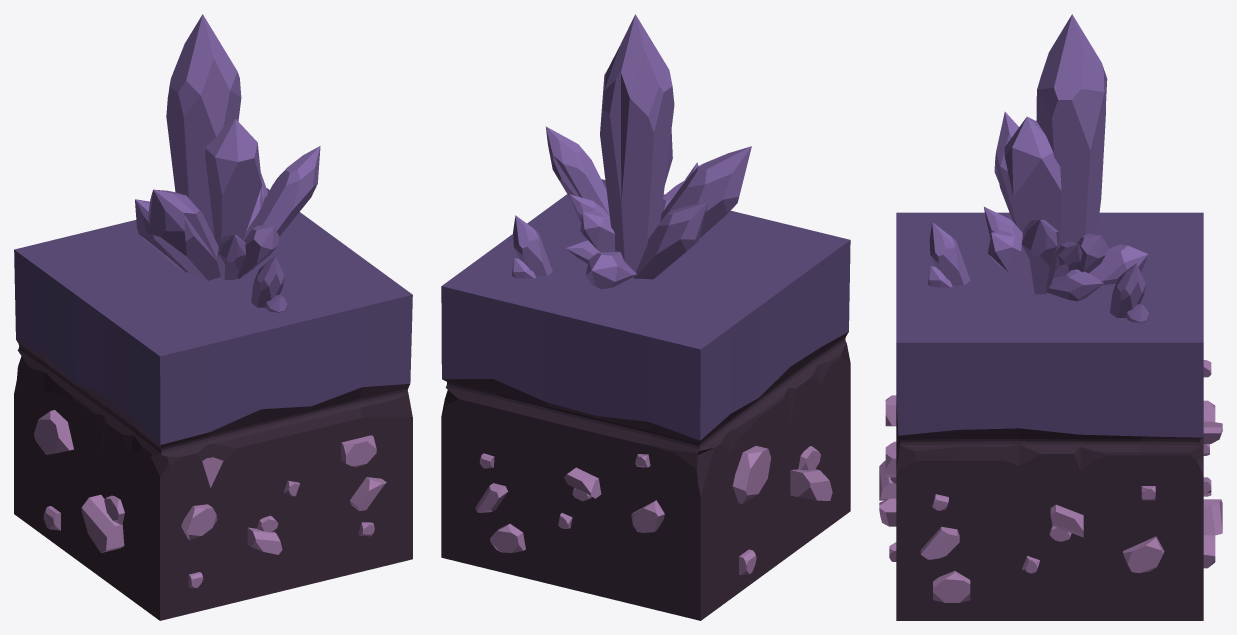
File: CrystallTile.fbx
The picture shows the model from 3 angles, left to right: view 1: azimuth 30°, elevation 25°; view 2: azimuth 150°, elevation 25°; view 3: azimuth 270°, elevation 25°; orthographic projection. The views are drawn at different scales.
Parts seen in each view (by area): view 1: Cube.002, Cube; view 2: Cube.002, Cube; view 3: Cube.002, Cube.
Boxes of the visible parts, x1,y1,x2,y2 form: Cube.002: (14, 172, 412, 620); Cube: (135, 14, 320, 280); Cube.002: (441, 162, 850, 620); Cube: (545, 14, 751, 289); Cube.002: (879, 212, 1222, 620); Cube: (984, 14, 1148, 301).
Size of the model in its own units: 227 by 389 by 224.
